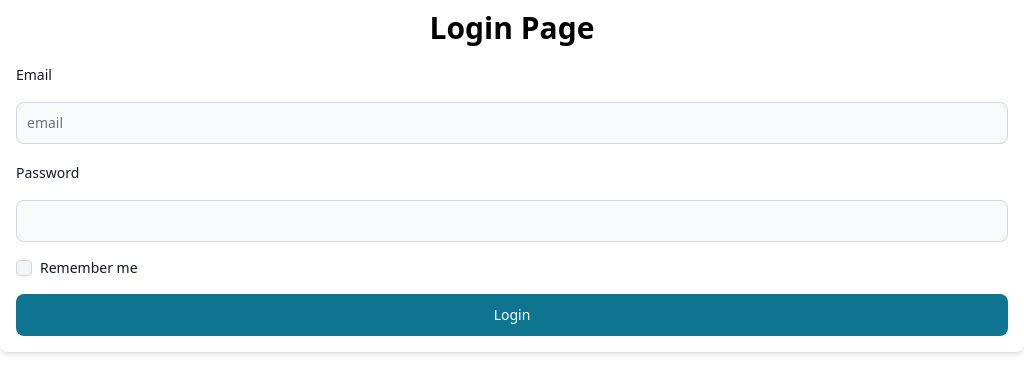
when the user submits the form data and the server returns an invalid credentials error › should display the error message: The email or password are not correct
Type "dave@gmail.com" into the field with placeholder "Email". click: (512, 123)
box: [16, 102, 1008, 144]
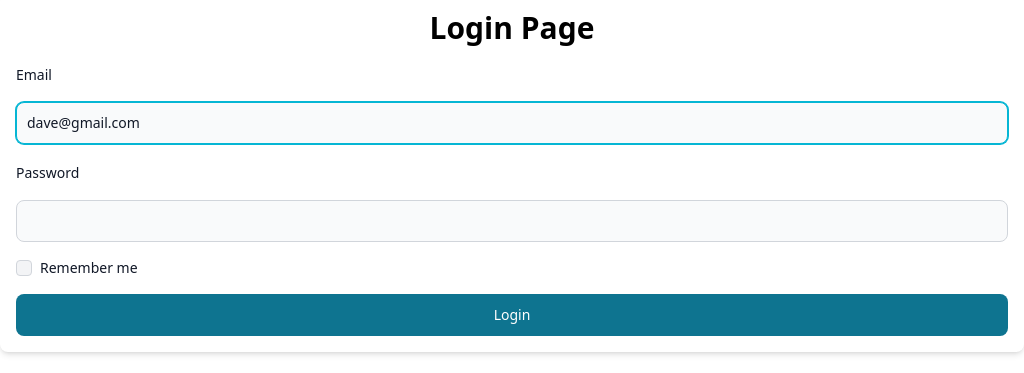
Type "Davejs$21" into the password field labelled "Password". click: (512, 221)
box: [16, 200, 1008, 242]
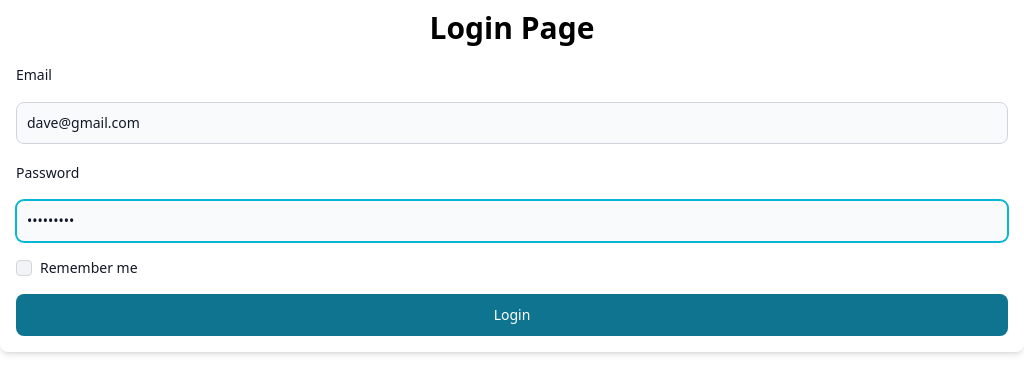
Click the button "Login". click: (512, 315)
box: [16, 294, 1008, 336]
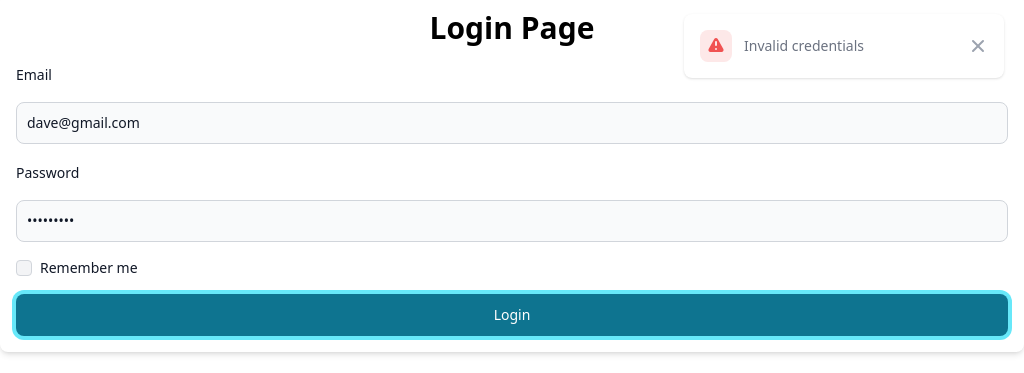
Now the text "Invalid credentials" is shown, box [744, 36, 864, 56]
